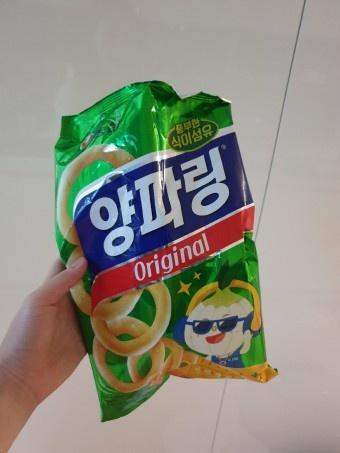snack: (53, 75, 282, 423)
